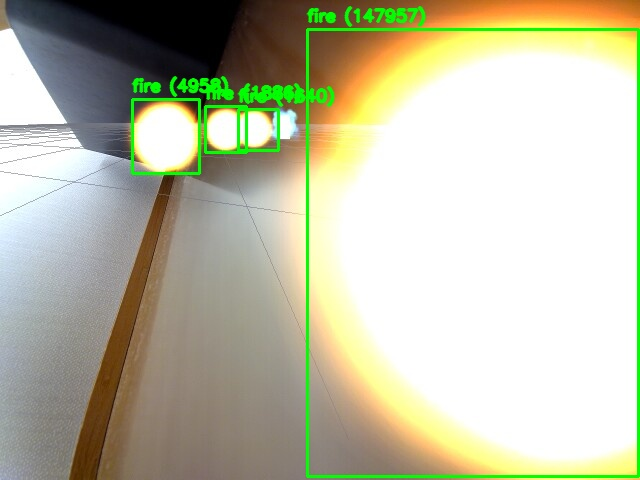fire: (307, 29, 638, 476), (132, 99, 199, 173), (205, 106, 246, 152), (238, 109, 278, 150)
